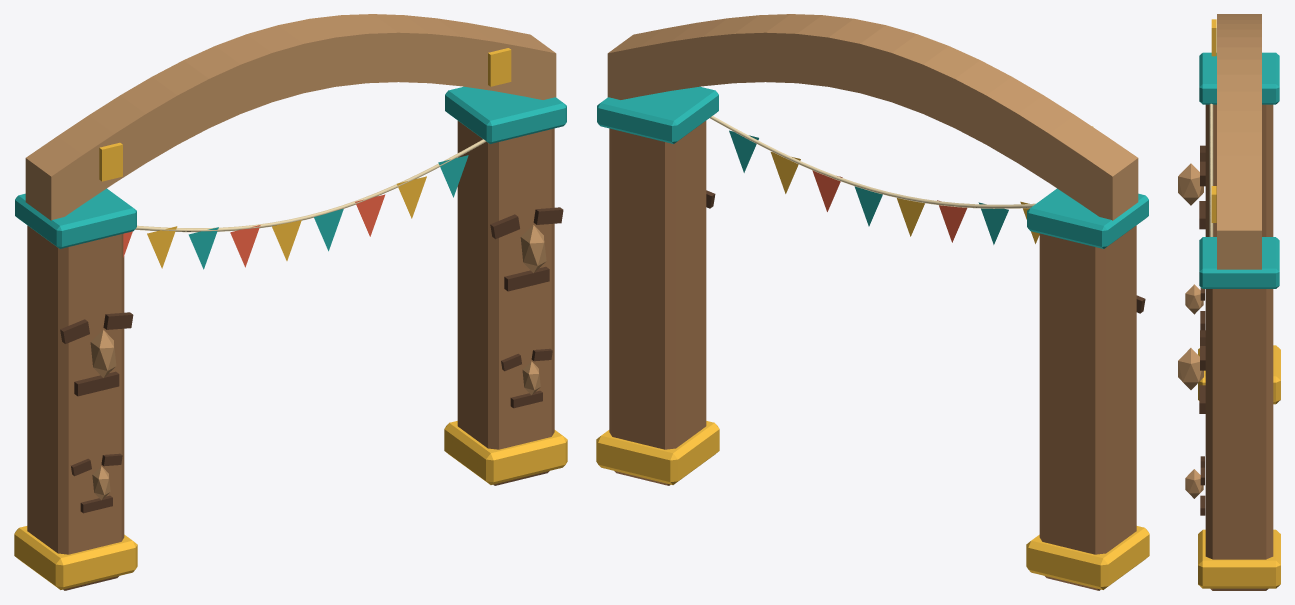
Rendered from race-arch.glb.
The picture shows the model from 3 angles, left to right: view 1: azimuth 30°, elevation 25°; view 2: azimuth 150°, elevation 25°; view 3: azimuth 270°, elevation 25°; orthographic projection. The views are drawn at different scales.
Visible parts, largest first — view 1: Curved wooden race banner, Carved tiki gate post, Carved tiki gate post.001, Teal post crown.001, Yellow post foot, Yellow post foot.001, Teal post crown, Bunting rope, Tiki nose.002, Tiki nose, Sunny banner accent, Sunny banner accent.001 (+2 smaller); view 2: Curved wooden race banner, Carved tiki gate post.001, Carved tiki gate post, Teal post crown.001, Yellow post foot, Yellow post foot.001, Teal post crown, Bunting rope; view 3: Carved tiki gate post.001, Curved wooden race banner, Yellow post foot.001, Teal post crown.001, Carved tiki gate post, Teal post crown, Tiki nose, Tiki nose.002, Bunting rope, Yellow post foot, Tiki nose.001, Tiki nose.003 (+4 smaller).
Boxes of the visible parts, x1,y1,x2,y2 form: Curved wooden race banner: [25, 14, 556, 220]; Carved tiki gate post: [27, 225, 124, 590]; Carved tiki gate post.001: [457, 121, 554, 485]; Teal post crown.001: [445, 86, 566, 143]; Yellow post foot: [14, 526, 137, 589]; Yellow post foot.001: [444, 421, 567, 484]; Teal post crown: [15, 188, 136, 248]; Bunting rope: [135, 139, 486, 232]; Tiki nose.002: [520, 225, 546, 273]; Tiki nose: [90, 330, 116, 377]; Sunny banner accent: [99, 142, 122, 181]; Sunny banner accent.001: [488, 48, 511, 86]; Curved wooden race banner: [607, 14, 1138, 220]; Carved tiki gate post.001: [609, 121, 706, 485]; Carved tiki gate post: [1039, 225, 1136, 590]; Teal post crown.001: [597, 86, 718, 143]; Yellow post foot: [1026, 526, 1149, 589]; Yellow post foot.001: [596, 421, 719, 484]; Teal post crown: [1027, 188, 1148, 248]; Bunting rope: [709, 115, 1035, 208]; Carved tiki gate post.001: [1205, 289, 1273, 590]; Curved wooden race banner: [1217, 14, 1261, 269]; Yellow post foot.001: [1198, 529, 1280, 588]; Teal post crown.001: [1199, 237, 1279, 288]; Carved tiki gate post: [1205, 104, 1273, 236]; Teal post crown: [1199, 52, 1279, 104]; Tiki nose: [1178, 163, 1203, 205]; Tiki nose.002: [1178, 348, 1203, 389]; Bunting rope: [1209, 103, 1213, 236]; Yellow post foot: [1198, 345, 1280, 404]; Tiki nose.001: [1185, 284, 1203, 314]; Tiki nose.003: [1185, 469, 1203, 498].
Bounding box in the file's own units: 3.69 × 3.35 × 0.7309.
